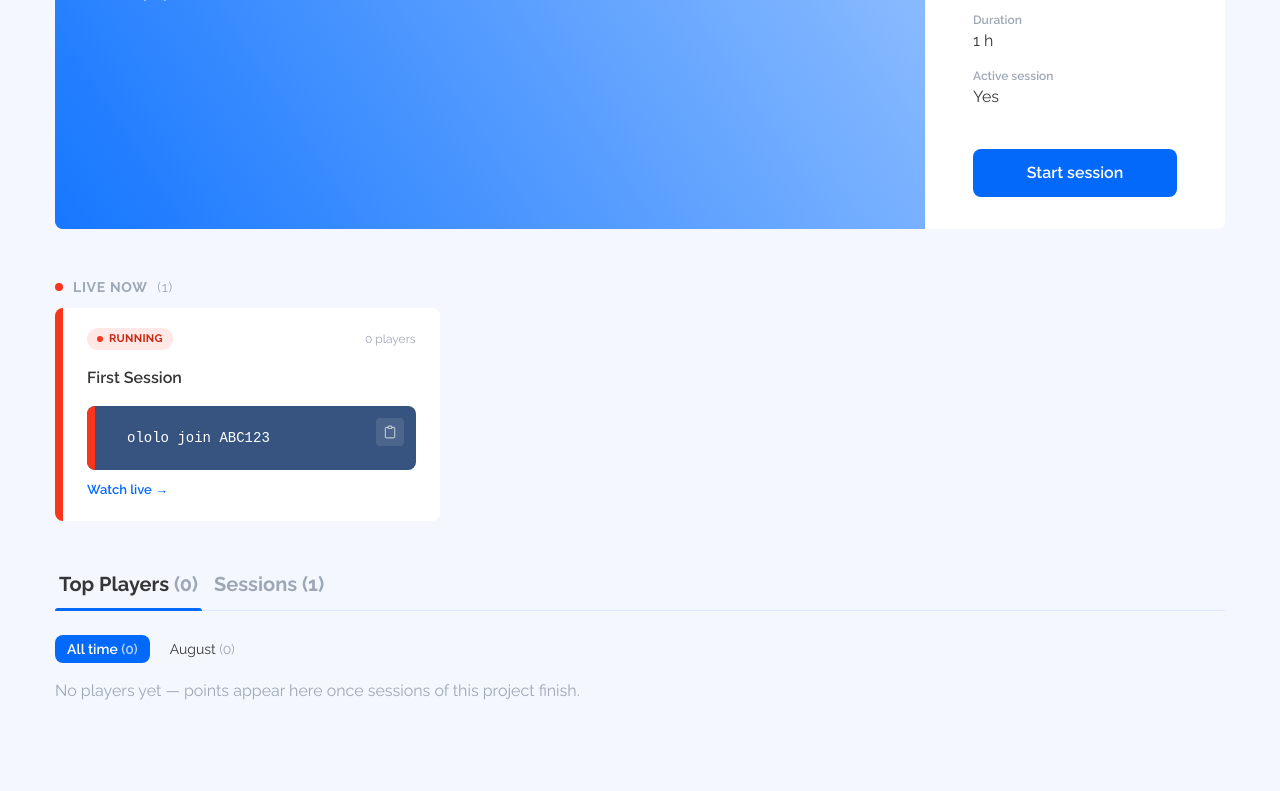
Test: routes/projects/[slug]/+page.svelte › renders session rows when sessions exist
(page scrolled)
Click the tab "Sessions (1)" at (269, 590), box 210,569 -> 328,611
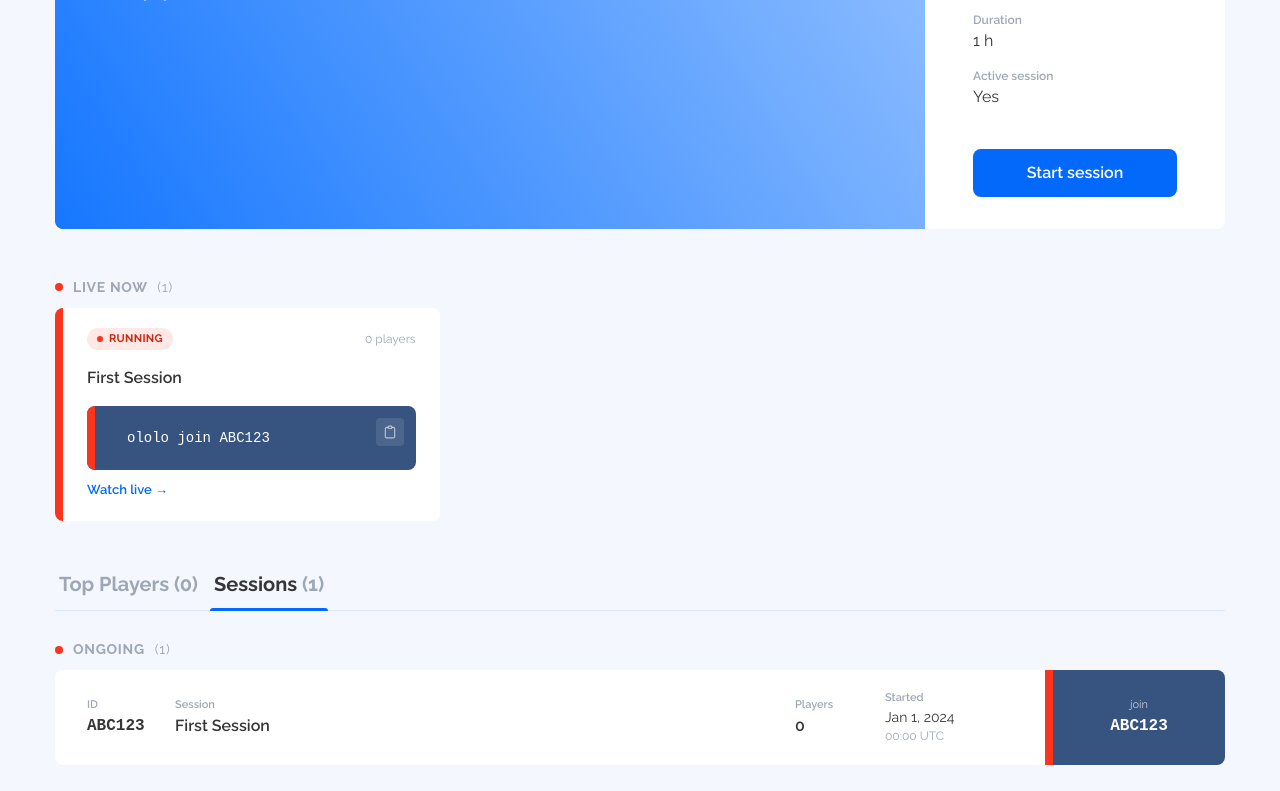
Now the text "First Session" in the row of "Jan 1, 2024" is shown, box 175,716 -> 270,735
